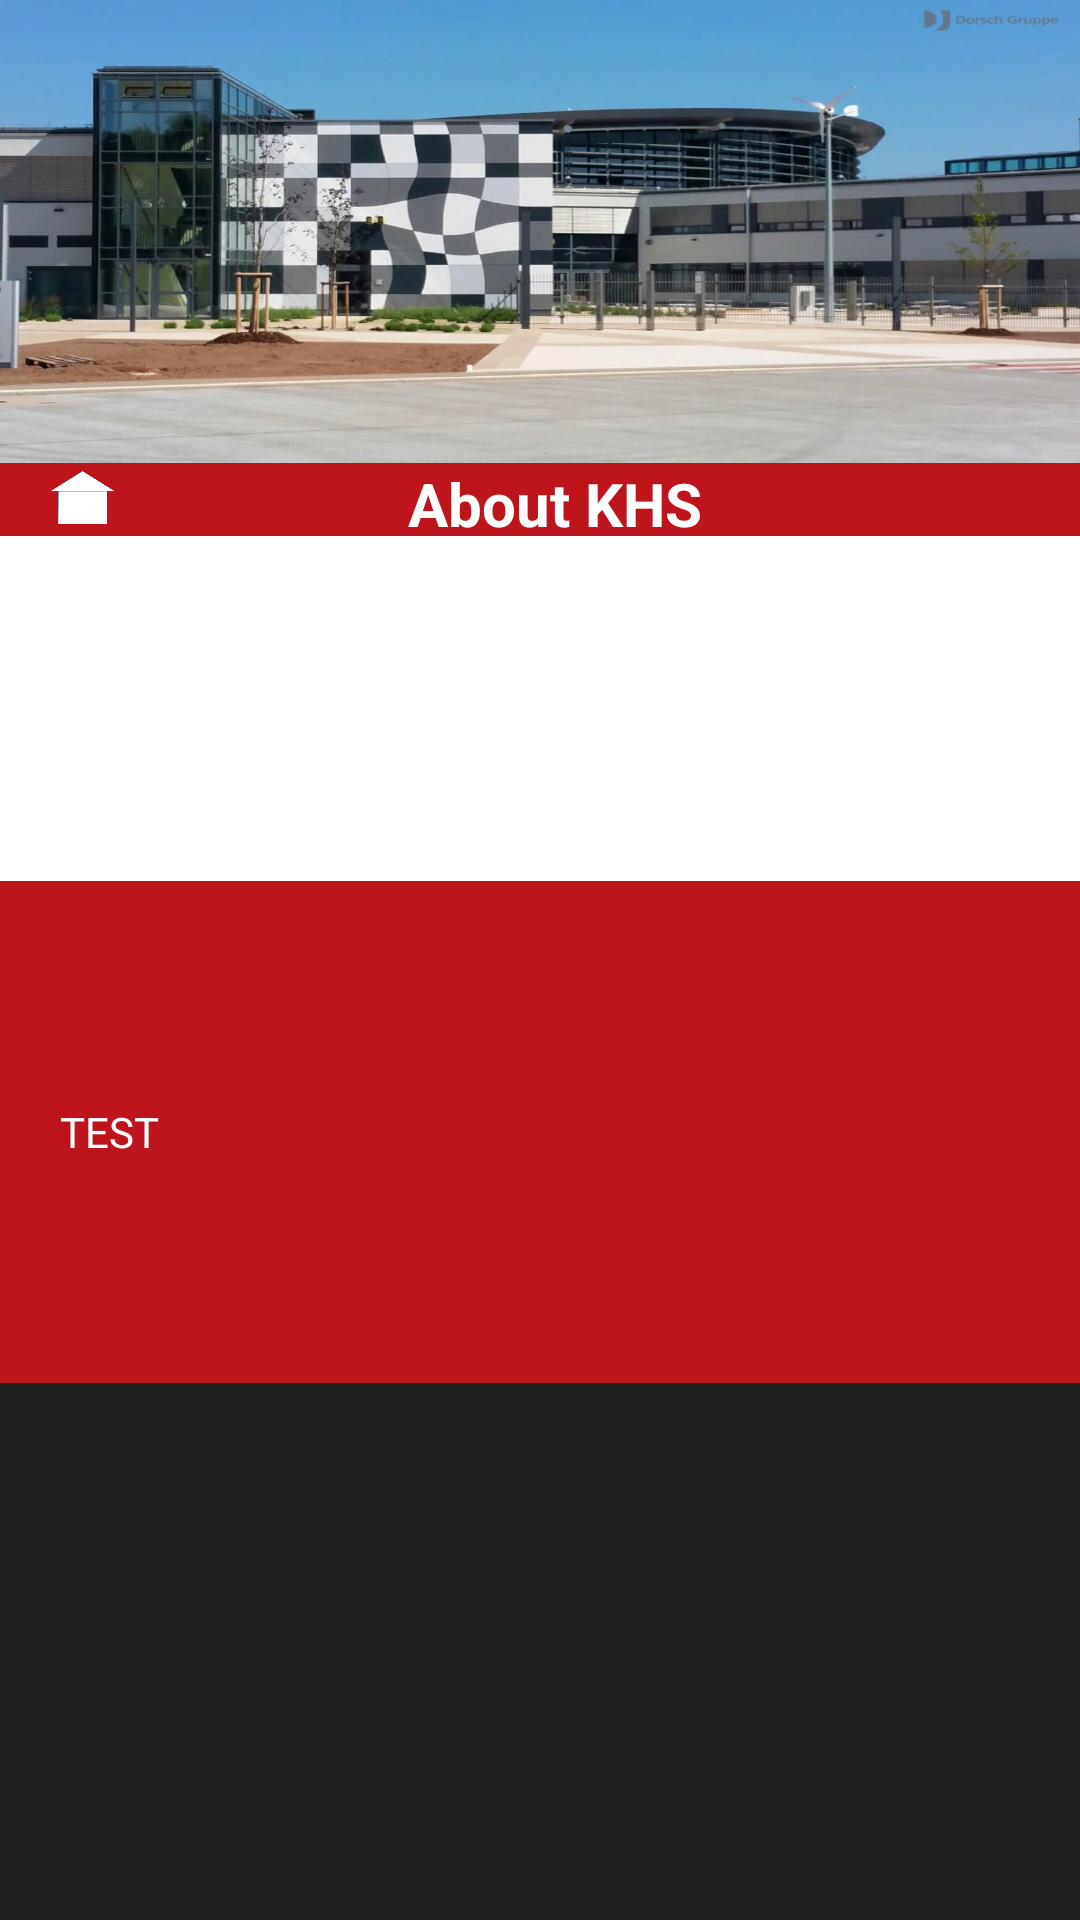

Icon click points for this 1080px x 1920px phone screenshot, format [x,y]:
home: [82,497]
